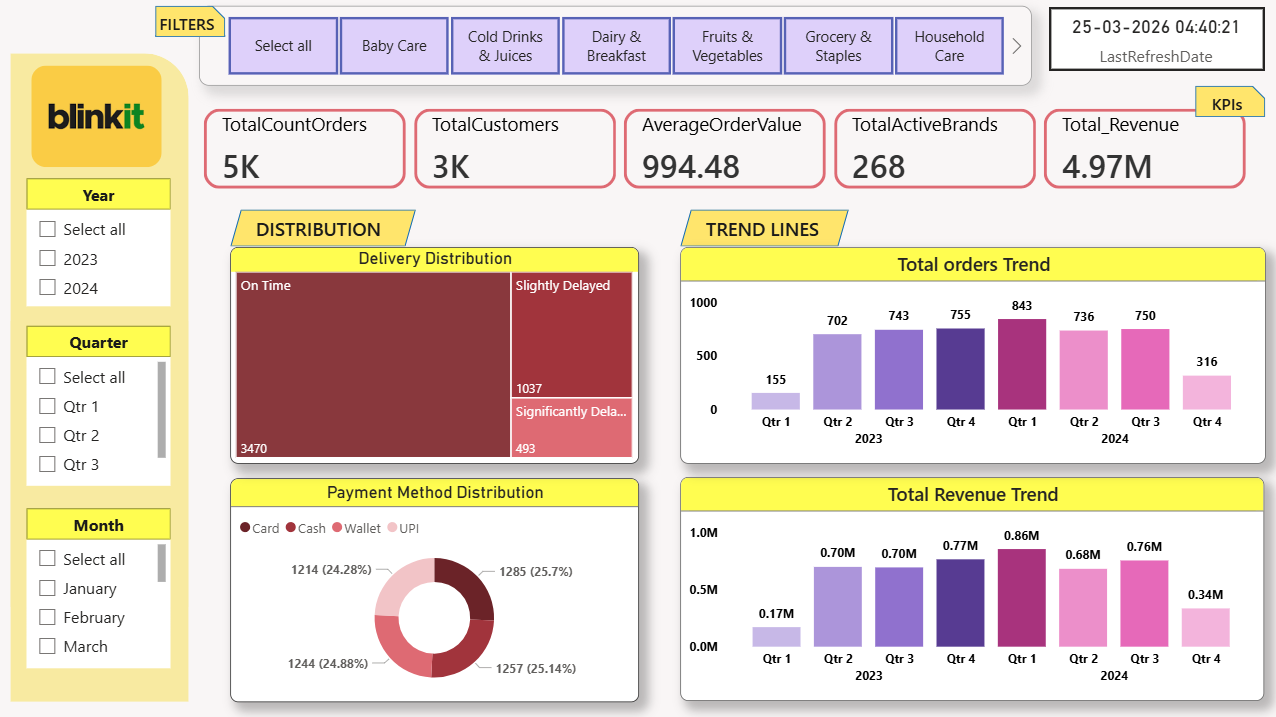

What the dashboard file says about the page in this screenshot:
{"tool":"powerbi","page":{"name":"Summary Report","canvas":[1280,720],"ordinal":0},"visuals":[{"type":"shape","box":[11.4,55.7,178.6,648.6],"z":1000},{"type":"cardVisual","fields":{"Data":["BasicKPIMeasures.SummaryReport_TotalCountOrders","BasicKPIMeasures.SummaryReport_TotalCustomers","BasicKPIMeasures.SummaryReport_AverageOrderValue","BasicKPIMeasures.SummaryReport_TotalActiveBrands","BasicKPIMeasures.SummaryReport_Total_Revenue"]},"box":[200,101.4,1055.7,95.7],"z":2000},{"type":"shape","title":"KPI","box":[1195.7,88.6,70,31.4],"z":3000},{"type":"donutChart","title":"Payment Method Distribution","fields":{"Category":["BLINKIT_ORDERS.PAYMENT_METHOD"],"Y":["CountNonNull(BLINKIT_ORDERS.PAYMENT_METHOD)"]},"box":[231.4,481.4,408.6,224.3],"z":4000},{"type":"treemap","title":"Delivery Distribution","fields":{"Values":["CountNonNull(blinkit_delivery_performance.delivery_status)"],"Group":["blinkit_delivery_performance.delivery_status"]},"box":[231.4,250,408.6,217.1],"z":5000},{"type":"slicer","fields":{"Values":["DateTable.Date.Variation.Date Hierarchy.Year"]},"box":[27.1,212.9,144.3,97.1],"z":6000},{"type":"slicer","fields":{"Values":["DateTable.Date.Variation.Date Hierarchy.Quarter"]},"box":[27.1,360,144.3,128.6],"z":7000},{"type":"slicer","fields":{"Values":["DateTable.Date.Variation.Date Hierarchy.Month"]},"box":[27.1,542.9,144.3,128.6],"z":8000},{"type":"shape","title":"KPI","box":[27.1,181.4,144.3,31.4],"z":9000},{"type":"shape","title":"KPI","box":[27.1,328.6,144.3,31.4],"z":10000},{"type":"shape","title":"KPI","box":[27.1,511.4,144.3,31.4],"z":11000},{"type":"shape","title":"KPI","box":[231.4,212.9,185.7,37.1],"z":12000},{"type":"slicer","fields":{"Values":["blinkit_products.category"]},"box":[200,8.6,832.9,80],"z":14000},{"type":"shape","title":"KPI","box":[155.7,8.6,70,31.4],"z":15000},{"type":"shape","title":"KPI","box":[681.4,212.9,168.6,37.1],"z":16000},{"type":"clusteredColumnChart","title":"Total Revenue Trend","fields":{"Y":["SummaryKPIMeasures.Total_Revenue"],"Category":["DateTable.Date.Variation.Date Hierarchy.Year","DateTable.Date.Variation.Date Hierarchy.Quarter"]},"box":[681.4,480,584.3,224.3],"z":17000},{"type":"image","box":[27.1,64.3,140,111.4],"z":18000},{"type":"card","fields":{"Values":["Last Refresh.LastRefreshDate"]},"box":[1050,10,215.7,64.3],"z":19000},{"type":"clusteredColumnChart","title":"Total orders Trend","fields":{"Category":["DateTable.Date.Variation.Date Hierarchy.Year","DateTable.Date.Variation.Date Hierarchy.Quarter"],"Y":["SummaryKPIMeasures.TotalCountOrders"]},"box":[681.4,250,585.7,217.1],"z":20000}]}

Visuals, with their boxes in screenshot pixels (x1, y1, x2, y2), scaled from the page's 1280x720 canvas onto the 1276x717 screenshot:
shape: (11, 55, 189, 701)
cardVisual - BasicKPIMeasures.SummaryReport_TotalCountOrders x BasicKPIMeasures.SummaryReport_TotalCustomers: (199, 101, 1252, 196)
"KPI" shape: (1192, 88, 1262, 120)
"Payment Method Distribution" donutChart: (231, 479, 638, 703)
"Delivery Distribution" treemap: (231, 249, 638, 465)
slicer - DateTable.Date.Variation.Date Hierarchy.Year: (27, 212, 171, 309)
slicer - DateTable.Date.Variation.Date Hierarchy.Quarter: (27, 358, 171, 487)
slicer - DateTable.Date.Variation.Date Hierarchy.Month: (27, 541, 171, 669)
"KPI" shape: (27, 181, 171, 212)
"KPI" shape: (27, 327, 171, 358)
"KPI" shape: (27, 509, 171, 541)
"KPI" shape: (231, 212, 416, 249)
slicer - blinkit_products.category: (199, 9, 1030, 88)
"KPI" shape: (155, 9, 225, 40)
"KPI" shape: (679, 212, 847, 249)
"Total Revenue Trend" clusteredColumnChart: (679, 478, 1262, 701)
image: (27, 64, 167, 175)
card - Last Refresh.LastRefreshDate: (1047, 10, 1262, 74)
"Total orders Trend" clusteredColumnChart: (679, 249, 1263, 465)
